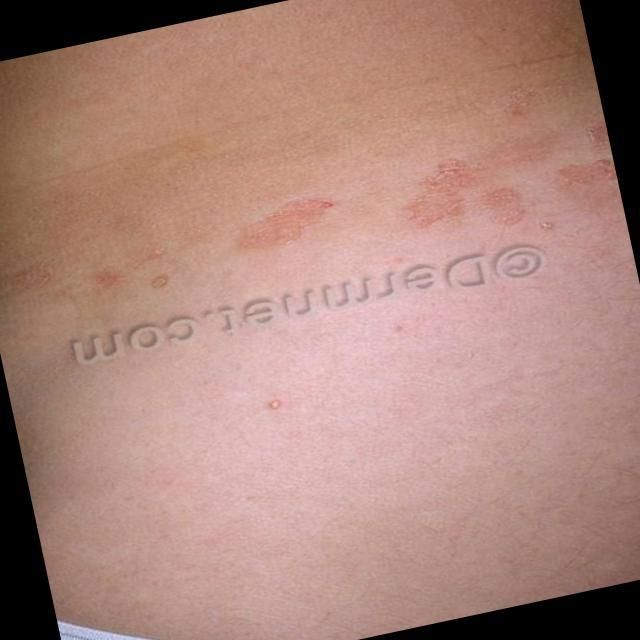Eczema: (0, 145, 630, 294)
